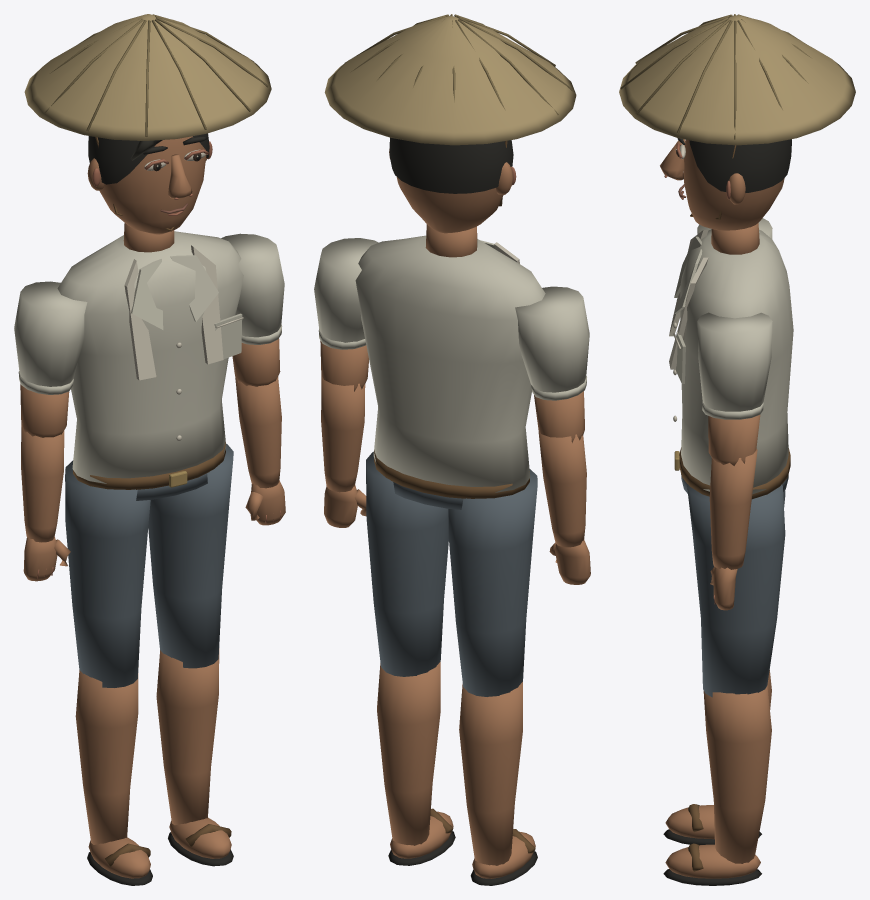
Rendered from saltfarmer.glb.
3 renders of one model, left to right at view 1: azimuth 30°, elevation 25°; view 2: azimuth 150°, elevation 25°; view 3: azimuth 270°, elevation 25°, orthographic.
Visible parts, largest first — view 1: body.003_mesh, head.003_mesh, legL.003_mesh, legR.003_mesh, shinL.003_mesh, shinR.003_mesh, armL.003_mesh, armR.003_mesh, forearmL.003_mesh, forearmR.003_mesh; view 2: body.003_mesh, head.003_mesh, legL.003_mesh, legR.003_mesh, shinR.003_mesh, shinL.003_mesh, armL.003_mesh, armR.003_mesh, forearmL.003_mesh, forearmR.003_mesh; view 3: head.003_mesh, body.003_mesh, legR.003_mesh, shinR.003_mesh, armR.003_mesh, forearmR.003_mesh, shinL.003_mesh.
Boxes of the visible parts, <box> form: body.003_mesh: <box>57,223,243,500</box>; head.003_mesh: <box>24,14,271,234</box>; legL.003_mesh: <box>65,460,150,687</box>; legR.003_mesh: <box>148,443,233,668</box>; shinL.003_mesh: <box>75,667,152,885</box>; shinR.003_mesh: <box>156,648,233,866</box>; armL.003_mesh: <box>14,281,87,437</box>; armR.003_mesh: <box>221,233,284,386</box>; forearmL.003_mesh: <box>21,423,70,581</box>; forearmR.003_mesh: <box>235,373,285,525</box>; body.003_mesh: <box>355,224,545,509</box>; head.003_mesh: <box>324,14,576,233</box>; legL.003_mesh: <box>448,469,537,696</box>; legR.003_mesh: <box>366,451,448,676</box>; shinR.003_mesh: <box>377,662,455,865</box>; shinL.003_mesh: <box>459,682,537,885</box>; armL.003_mesh: <box>515,286,589,442</box>; armR.003_mesh: <box>314,238,378,391</box>; forearmL.003_mesh: <box>538,430,590,584</box>; forearmR.003_mesh: <box>321,376,366,527</box>; head.003_mesh: <box>619,14,855,230</box>; body.003_mesh: <box>669,223,793,499</box>; legR.003_mesh: <box>687,484,785,697</box>; shinR.003_mesh: <box>663,686,771,885</box>; armR.003_mesh: <box>697,312,772,465</box>; forearmR.003_mesh: <box>709,449,757,610</box>; shinL.003_mesh: <box>663,670,771,844</box>.
Size of the model in its own units: 0.5684 by 1.74 by 0.4443.
